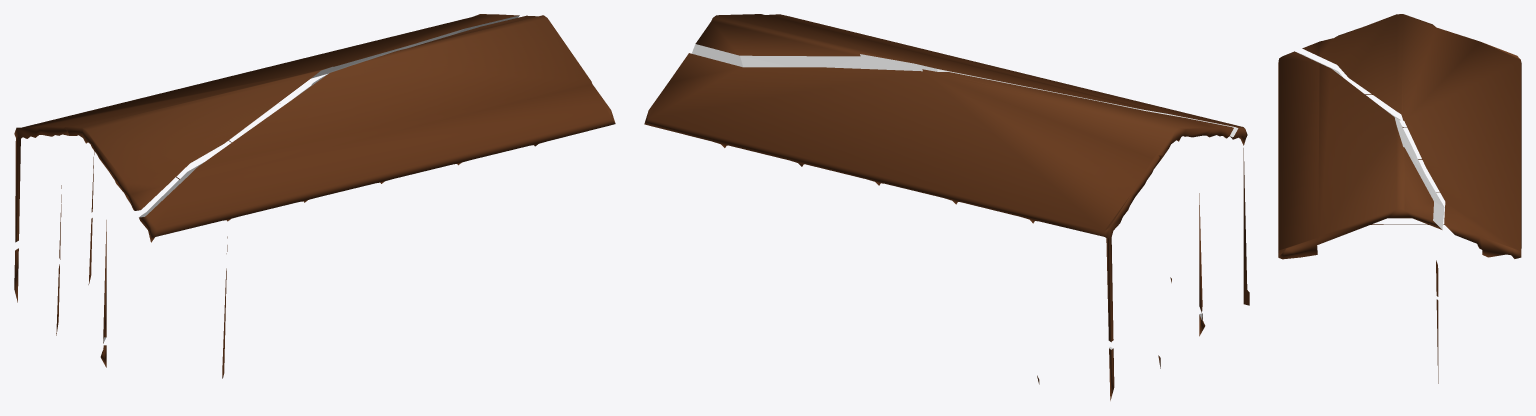
File: Pergolas and open houses(3).glb
The picture shows the model from 3 angles, left to right: view 1: azimuth 30°, elevation 25°; view 2: azimuth 150°, elevation 25°; view 3: azimuth 270°, elevation 25°; orthographic projection. The views are drawn at different scales.
Visible parts, largest first — view 1: Root.001, Root.007; view 2: Root.007, Root.001; view 3: Root.007, Root.001.
Boxes of the visible parts, x1,y1,x2,y2 form: Root.001: (139, 15, 615, 242); Root.007: (14, 14, 519, 242); Root.007: (644, 53, 1233, 342); Root.001: (692, 14, 1249, 305); Root.007: (1302, 14, 1521, 258); Root.001: (1278, 51, 1444, 259).
Bounding box in the file's own units: 10.25 × 4.66 × 5.32.
